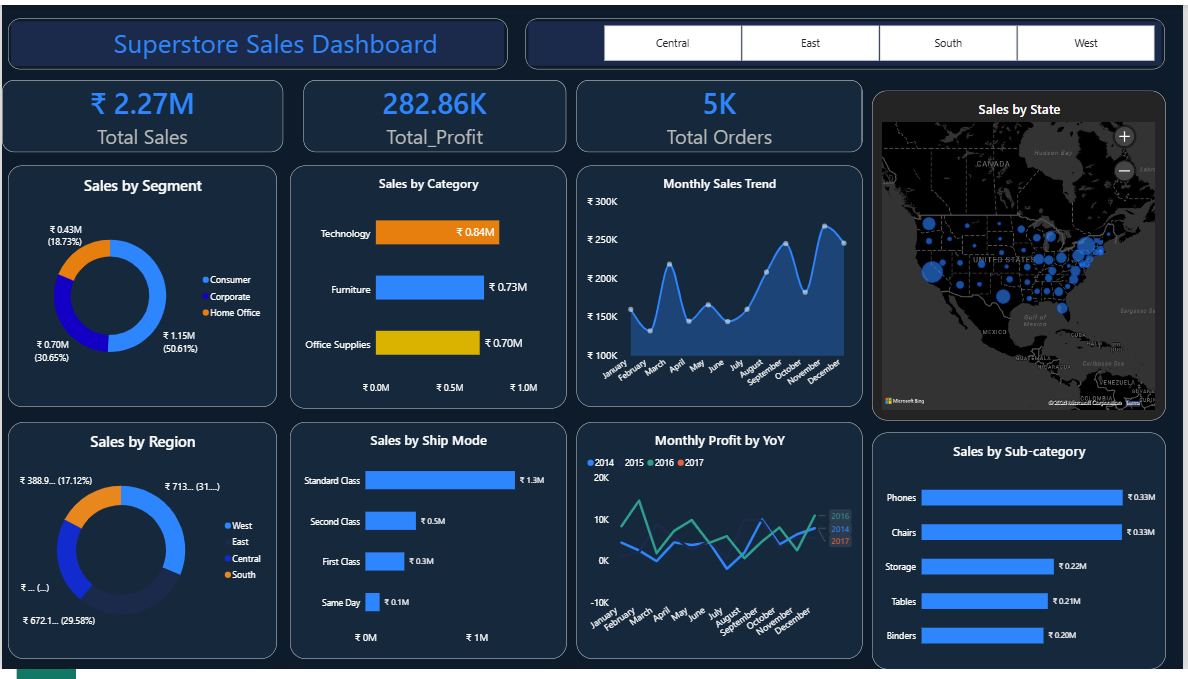

Layout of this report page (visuals, bound fields, positions):
{"tool":"powerbi","page":{"name":"Page 1","canvas":[1920,1080],"ordinal":0},"visuals":[{"type":"shape","box":[10,22.5,812.5,82.5],"z":0},{"type":"shape","box":[852.5,22.5,1040,82.5],"z":1000},{"type":"textbox","box":[9.8,31.7,871,73.2],"z":2000},{"type":"slicer","fields":{"Values":["superstore orders.region"]},"box":[958.8,31.7,934.4,61],"z":3000},{"type":"cardVisual","title":"Total Sales","fields":{"Data":["superstore orders.Total Sales"]},"box":[0,122.5,457.5,117.5],"z":4000},{"type":"cardVisual","title":"Total Sales","fields":{"Data":["superstore orders.Total_Profit"]},"box":[490,122.5,427.5,117.5],"z":5000},{"type":"cardVisual","title":"Total Sales","fields":{"Data":["superstore orders.Total Orders"]},"box":[935,122.5,465,117.5],"z":6000},{"type":"donutChart","title":"Sales by Segment","fields":{"Category":["superstore orders.segment"],"Y":["superstore orders.Total Sales"]},"box":[10,260,437.5,392.5],"z":7000},{"type":"clusteredBarChart","title":"Sales by Category","fields":{"Category":["superstore orders.category"],"Y":["superstore orders.Total Sales"]},"box":[467.5,260,450,395],"z":8000},{"type":"lineChart","title":"Monthly Sales Trend","fields":{"Category":["superstore orders.order_date.Variation.Date Hierarchy.Month"],"Y":["superstore orders.Total Sales"]},"box":[935,260,465,392.5],"z":9000},{"type":"map","title":"Sales by State","fields":{"Category":["superstore orders.state"],"Size":["Sum(superstore orders.sales)"]},"box":[1415.1,139.1,478.2,536.8],"z":10000},{"type":"donutChart","title":"Sales by Region","fields":{"Category":["superstore orders.region"],"Y":["superstore orders.Total Sales"]},"box":[10,677.5,437.5,385],"z":11000},{"type":"clusteredBarChart","title":"Sales by Ship Mode","fields":{"Category":["superstore orders.ship_mode"],"Y":["superstore orders.Total Sales"]},"box":[467.5,677.5,450,385],"z":11001},{"type":"lineChart","title":"Monthly Profit by YoY","fields":{"Category":["superstore orders.order_date.Variation.Date Hierarchy.Month"],"Series":["superstore orders.Order_year"],"Y":["superstore orders.Total_Profit"]},"box":[935,677.5,465,385],"z":11002},{"type":"clusteredBarChart","title":"Sales by Sub-category","fields":{"Category":["superstore orders.sub_category"],"Y":["superstore orders.Total Sales"]},"box":[1415,695,478,385],"z":11003}]}

Visuals, with their boxes in screenshot pixels (x1, y1, x2, y2), scaled from the page's 1920x1080 canvas onto the 1188x679 screenshot:
shape: locate(6, 14, 509, 66)
shape: locate(527, 14, 1171, 66)
textbox: locate(6, 20, 545, 66)
slicer - superstore orders.region: locate(593, 20, 1171, 58)
"Total Sales" cardVisual: locate(0, 77, 283, 151)
"Total Sales" cardVisual: locate(303, 77, 568, 151)
"Total Sales" cardVisual: locate(579, 77, 866, 151)
"Sales by Segment" donutChart: locate(6, 163, 277, 410)
"Sales by Category" clusteredBarChart: locate(289, 163, 568, 412)
"Monthly Sales Trend" lineChart: locate(579, 163, 866, 410)
"Sales by State" map: locate(876, 87, 1171, 425)
"Sales by Region" donutChart: locate(6, 426, 277, 668)
"Sales by Ship Mode" clusteredBarChart: locate(289, 426, 568, 668)
"Monthly Profit by YoY" lineChart: locate(579, 426, 866, 668)
"Sales by Sub-category" clusteredBarChart: locate(876, 437, 1171, 678)
